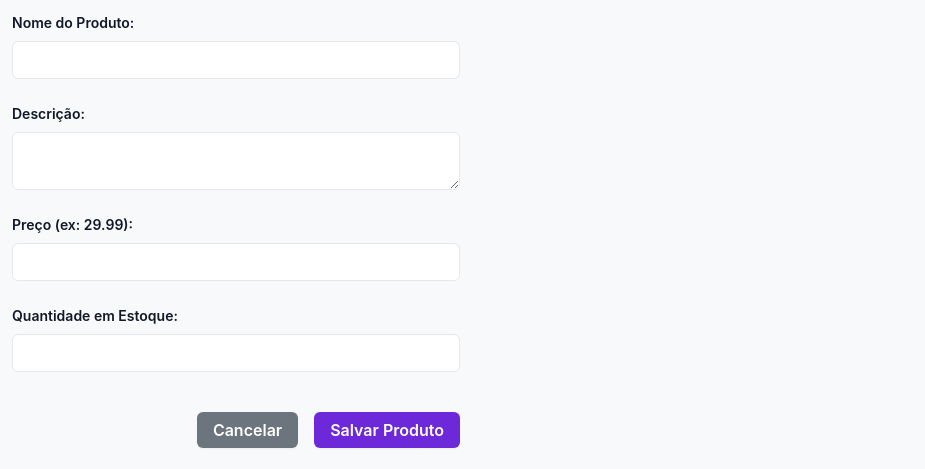
Test: NewProductForm Component › should display validation error if required fields are empty on submit
Click the button "Salvar Produto": (387, 430) left=314, top=412, right=460, bottom=448
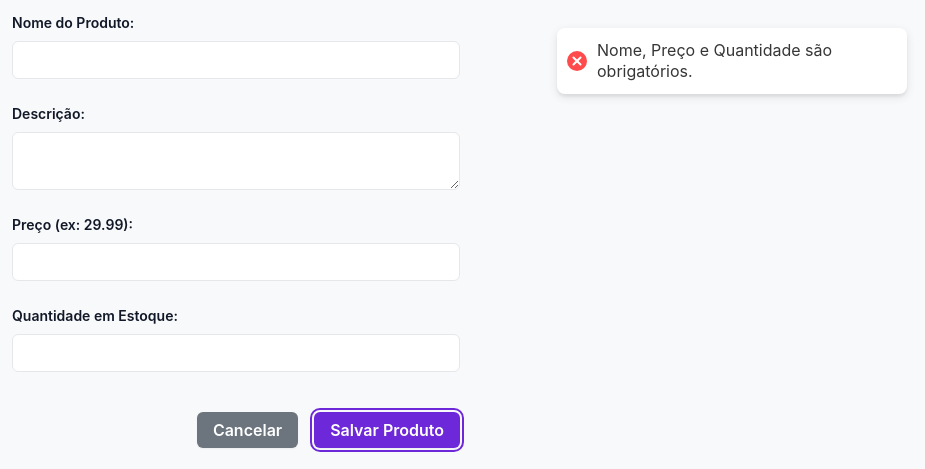
Check: the text "Nome, Preço e Quantidade são obrigatórios." is shown, box left=597, top=40, right=832, bottom=81
